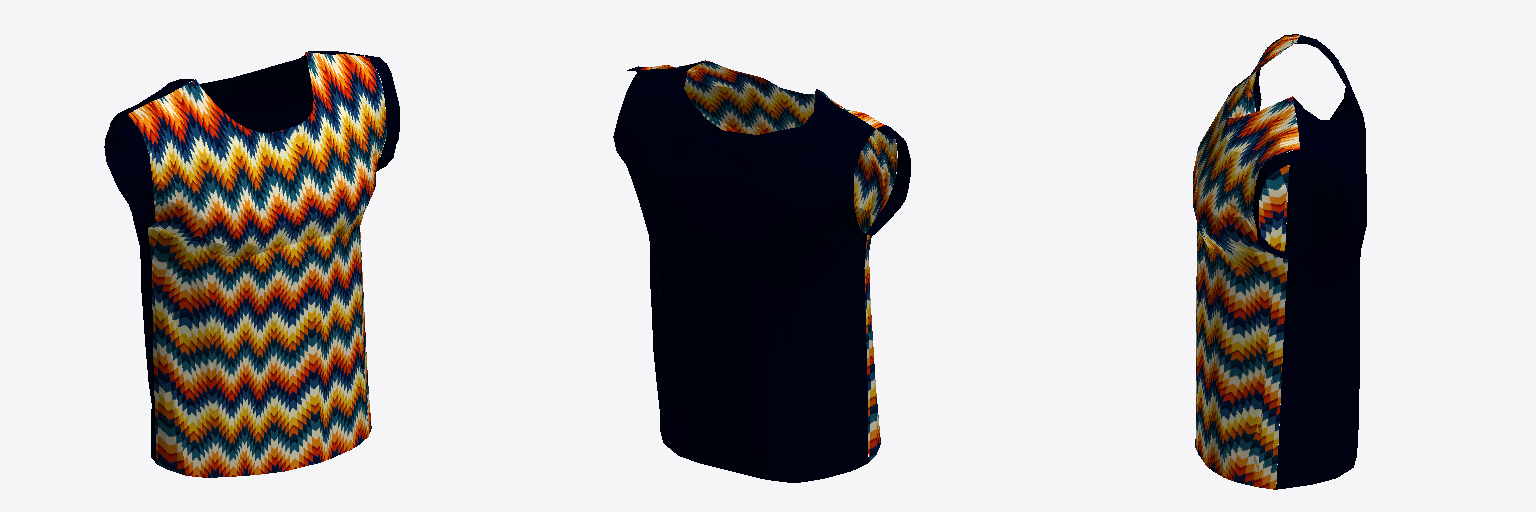
3 views of the same model, side by side, from view 1: azimuth 30°, elevation 25°; view 2: azimuth 150°, elevation 25°; view 3: azimuth 270°, elevation 25° (orthographic).
Parts seen in each view (by area): view 1: T_shirt; view 2: T_shirt; view 3: T_shirt.
Boxes of the visible parts, <box> form: T_shirt: <box>104,51,399,477</box>; T_shirt: <box>613,60,910,482</box>; T_shirt: <box>1193,34,1366,489</box>.
Size of the model in its own units: 0.2935 by 0.3892 by 0.1639.
Materials: 2 (1 with a texture image).